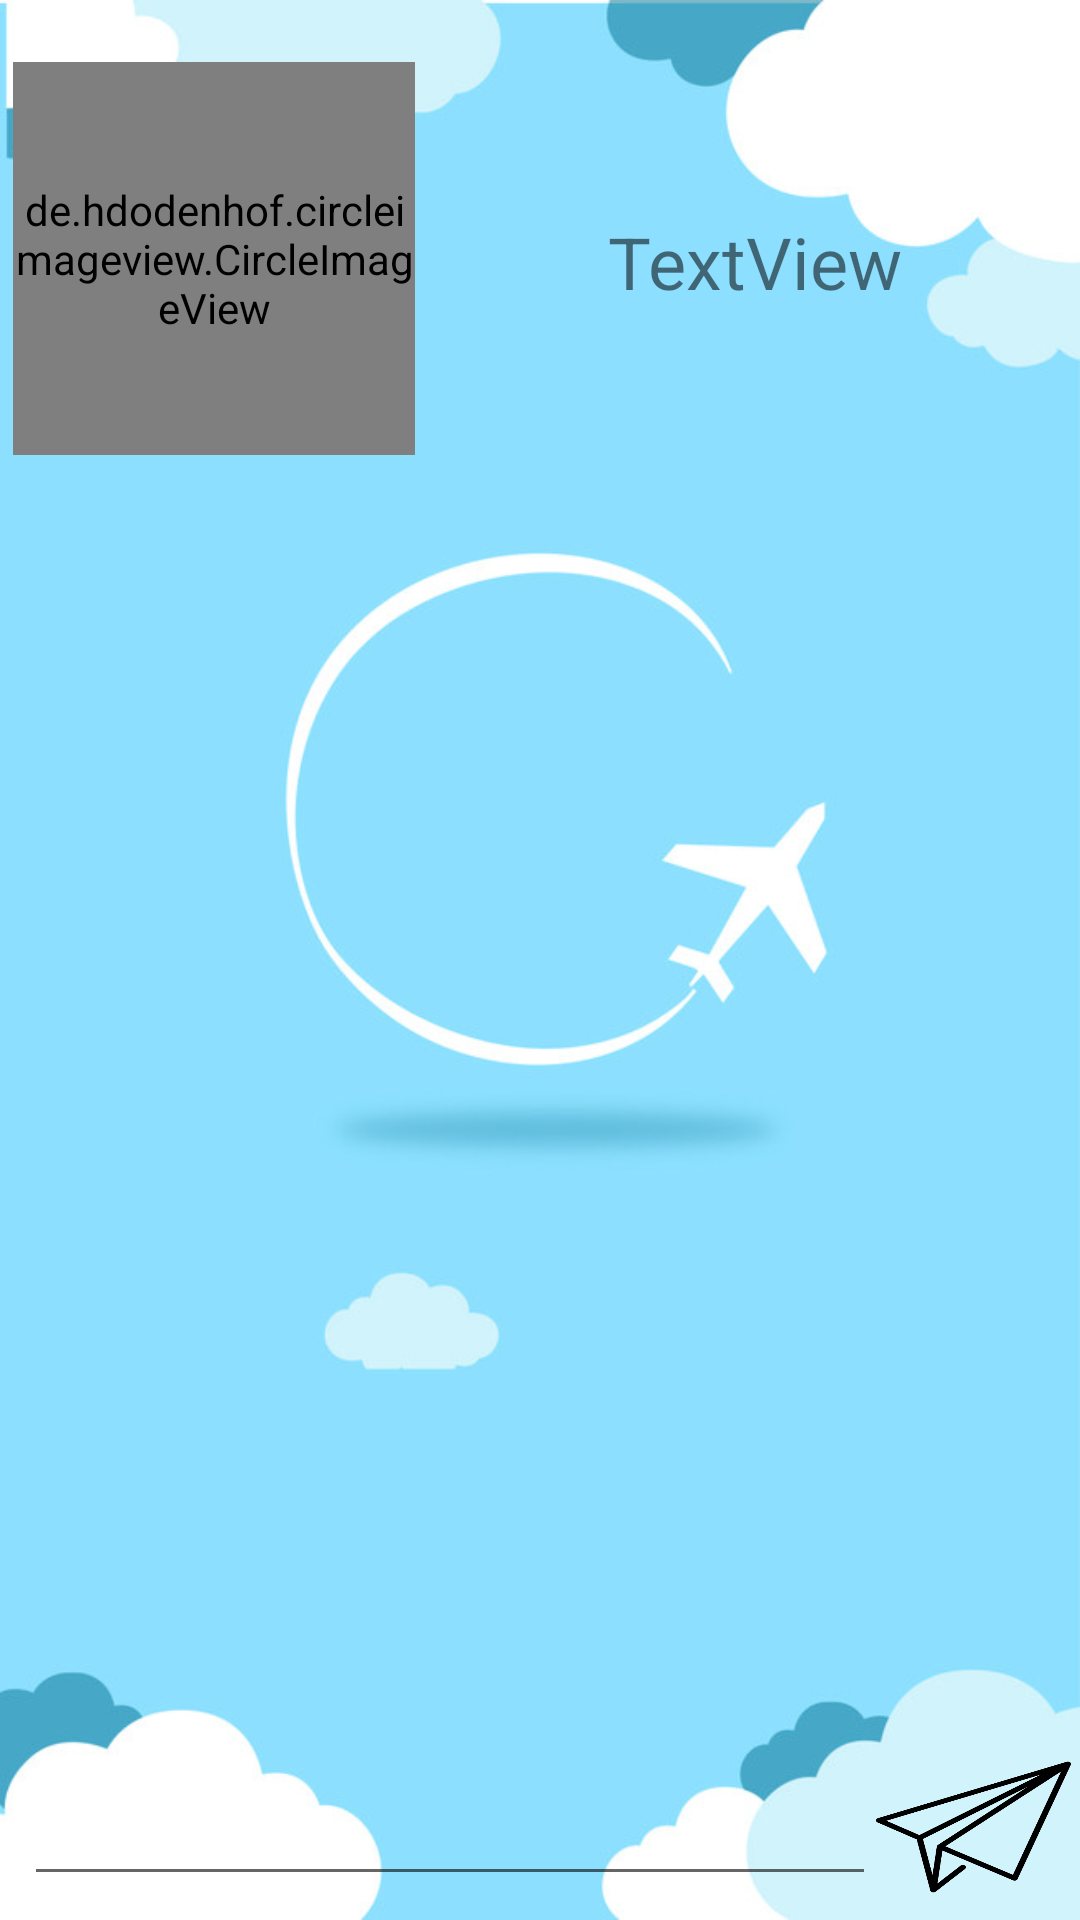

Named icons in this screenshot (1080 x 1920) and their centers, (x=x, y=y):
enviar: (x=973, y=1827)
